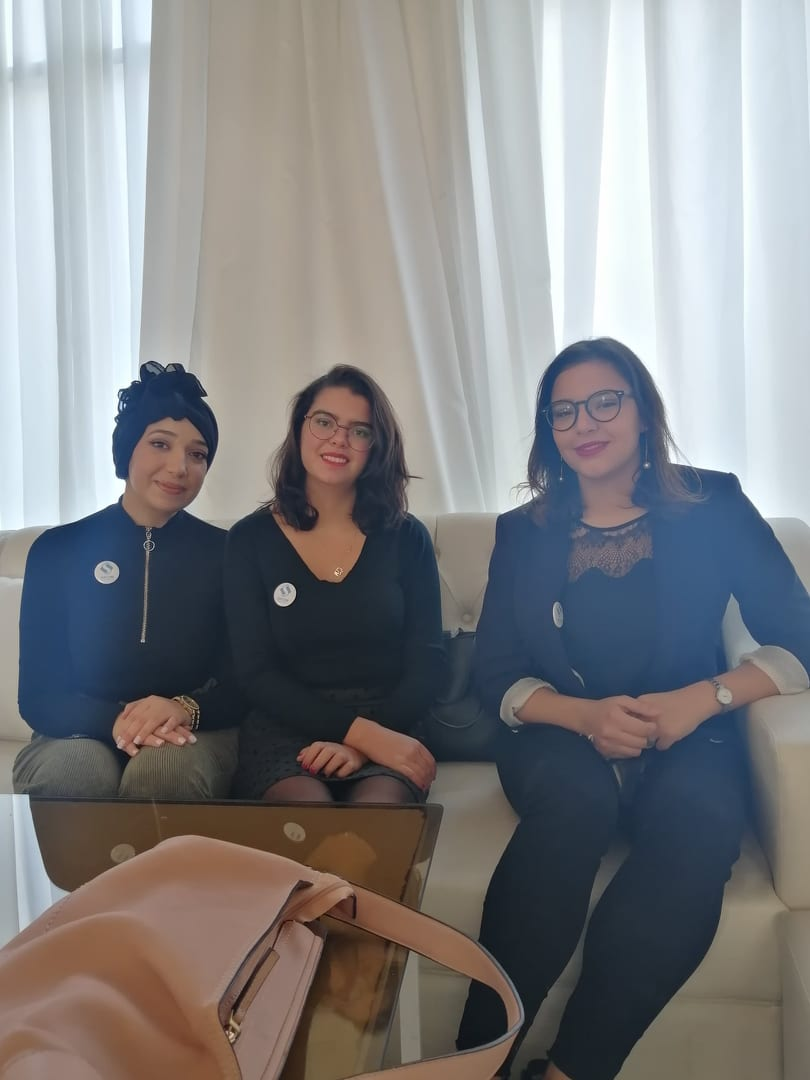without_mask: (538, 388, 644, 482), (303, 397, 380, 480), (138, 422, 204, 512)
